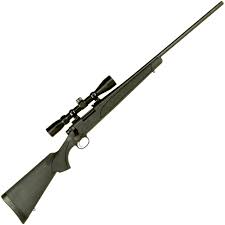gun: (1, 1, 223, 223)
